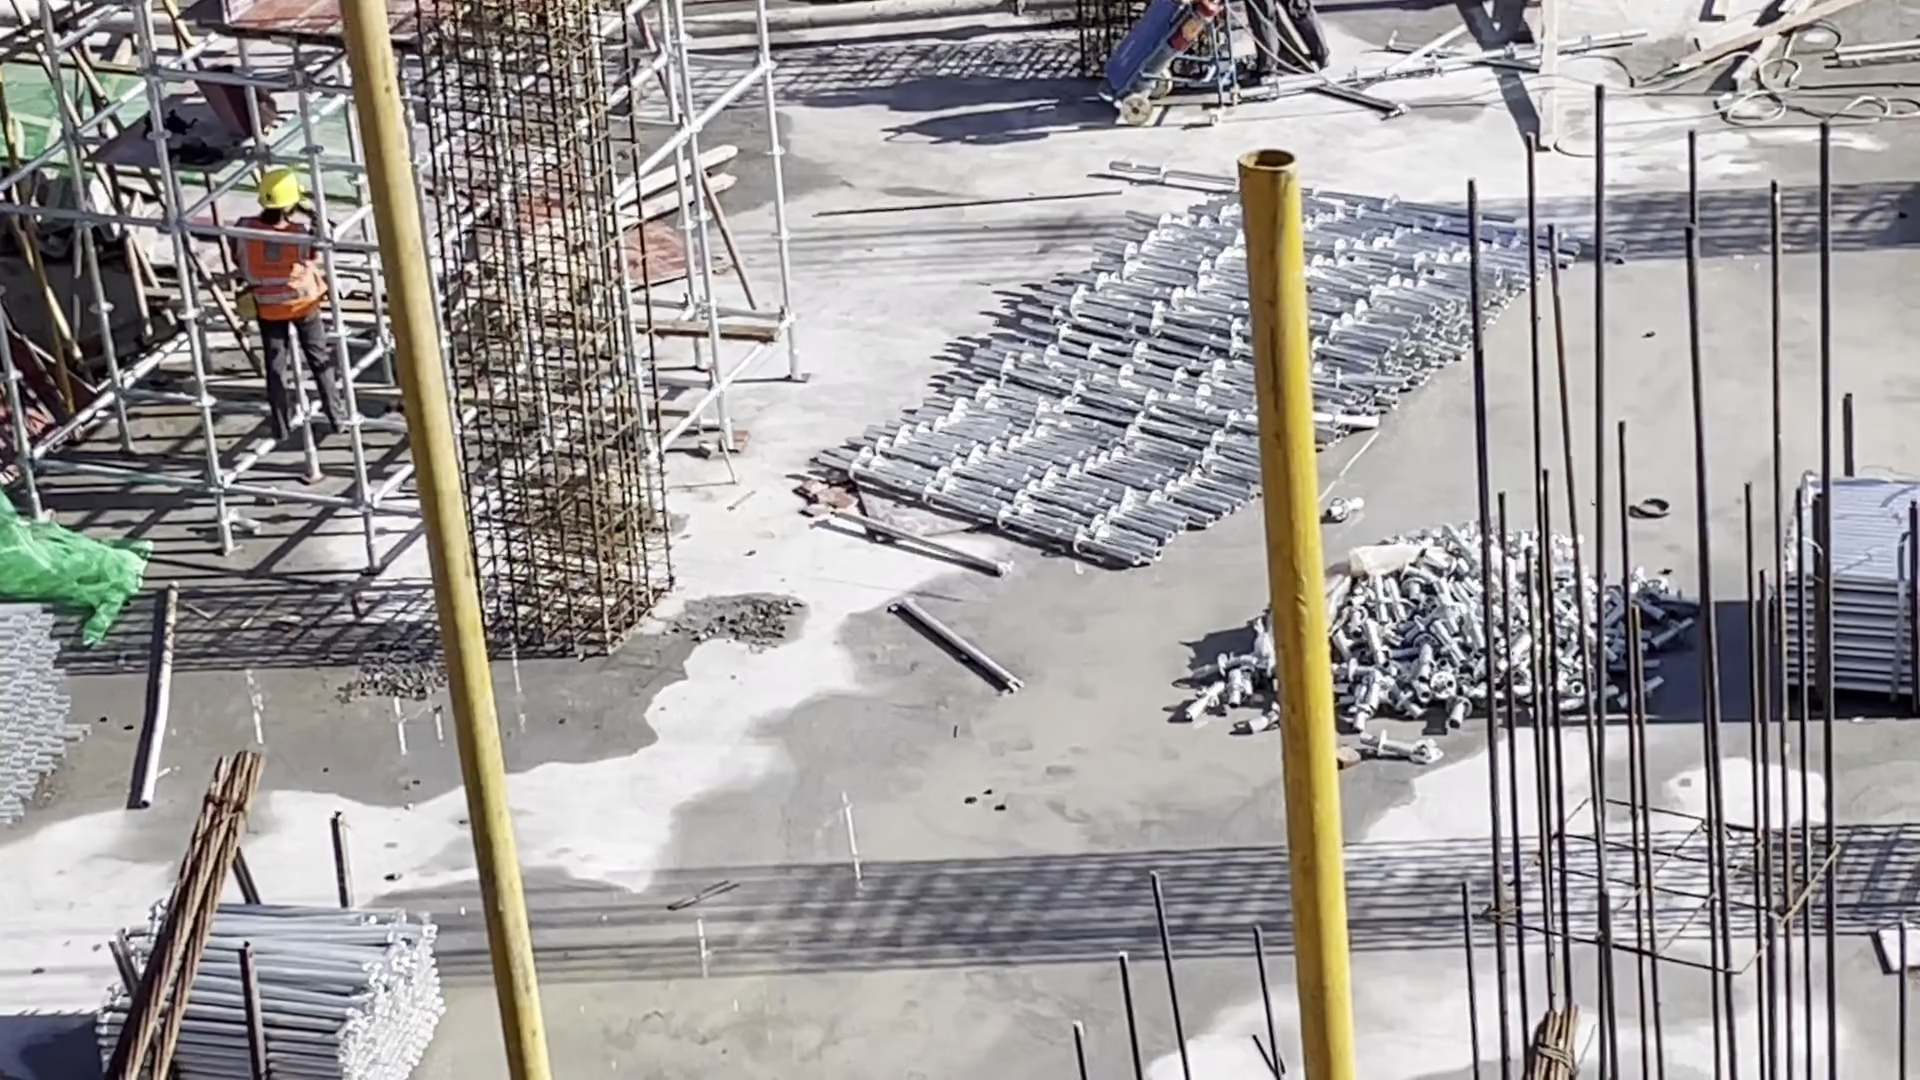helmet: (257, 173, 306, 210)
person: (236, 174, 356, 445), (1243, 2, 1333, 80)
scaffold: (806, 157, 1633, 572), (98, 896, 449, 1080), (1780, 463, 1920, 697)
vest: (239, 219, 331, 325)
